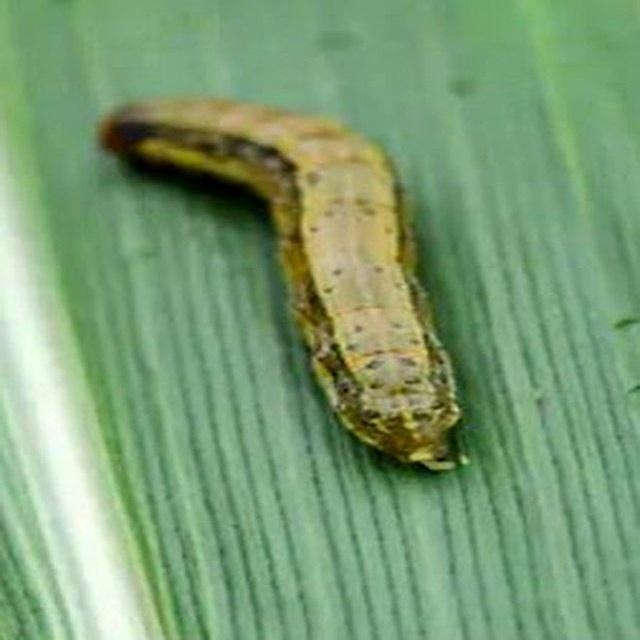gusano_cogollero: (90, 91, 472, 478)
